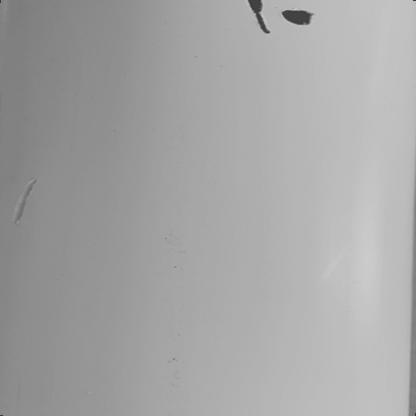kongdong: (247, 1, 274, 36), (280, 5, 313, 28)
sunshang: (12, 179, 39, 223)
